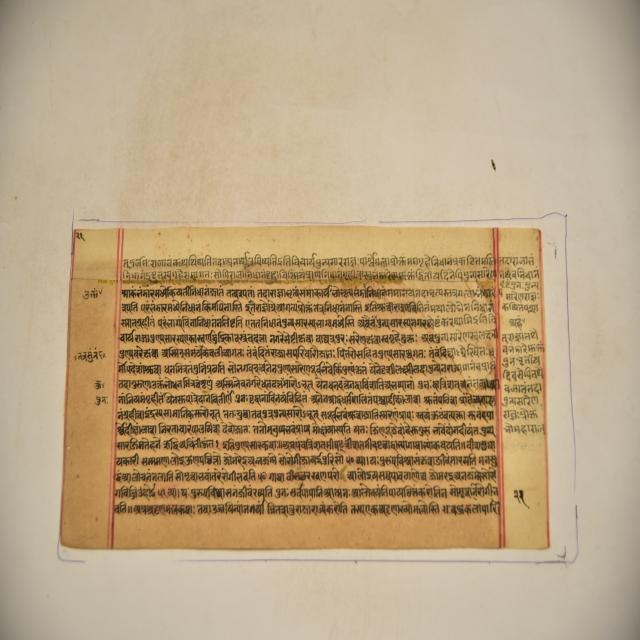text_paragraph: (58, 227, 548, 547)
